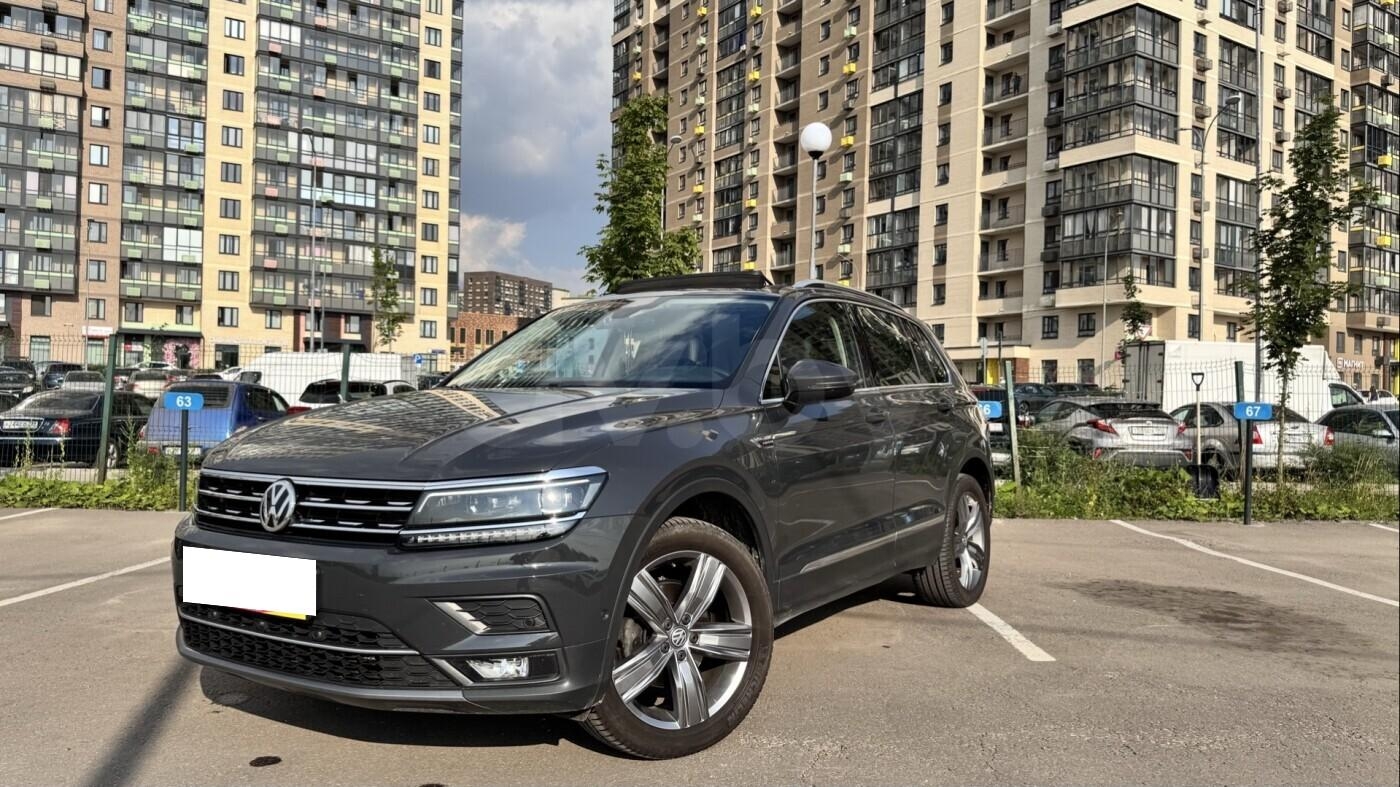Tiguan_2016-2021: (174, 277, 995, 757)
